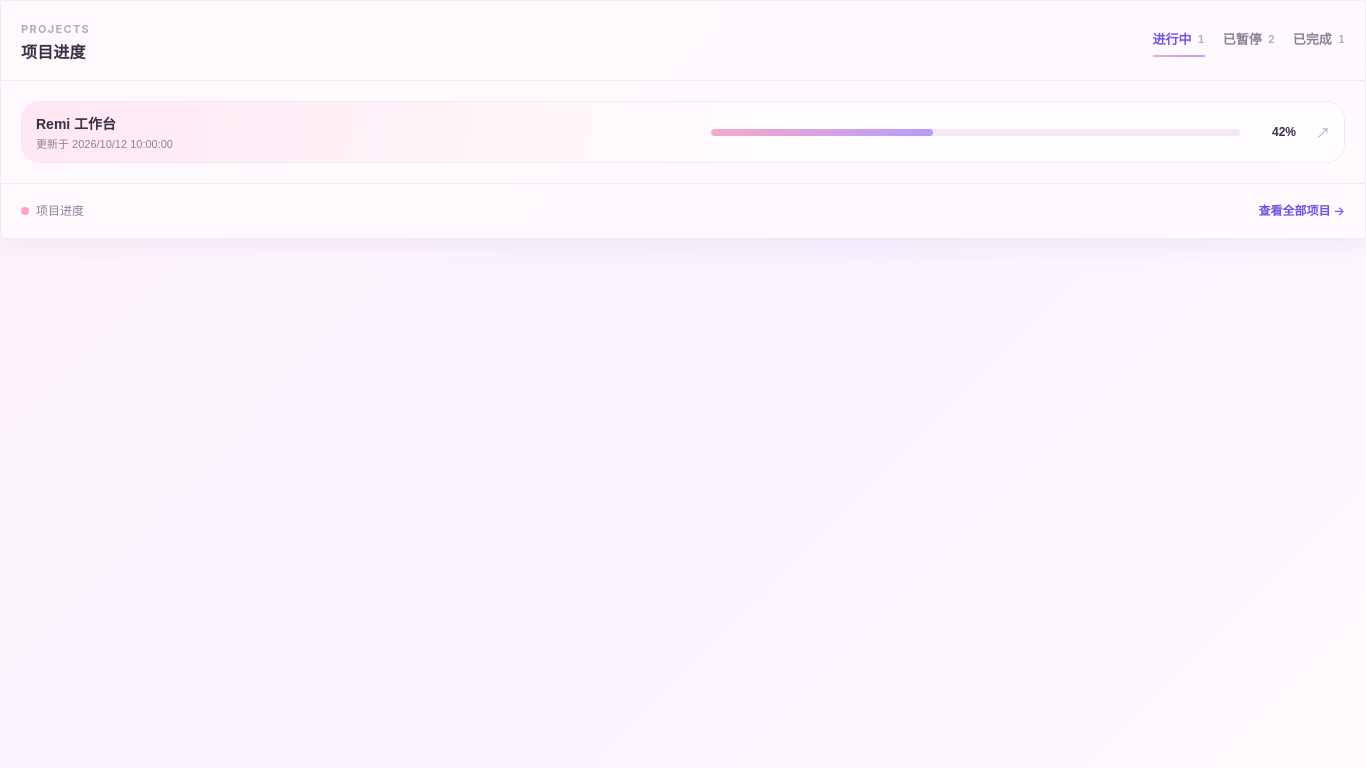
Scenario: ProjectOverviewCard › shows project progress with server counts and filters by status
The image size is (1366, 768).
Expected: the text "旧项目" is not shown
Click the button with class "tab" showing "已完成 1" at (1319, 41), box x1=1293 y1=22 x2=1345 y2=59
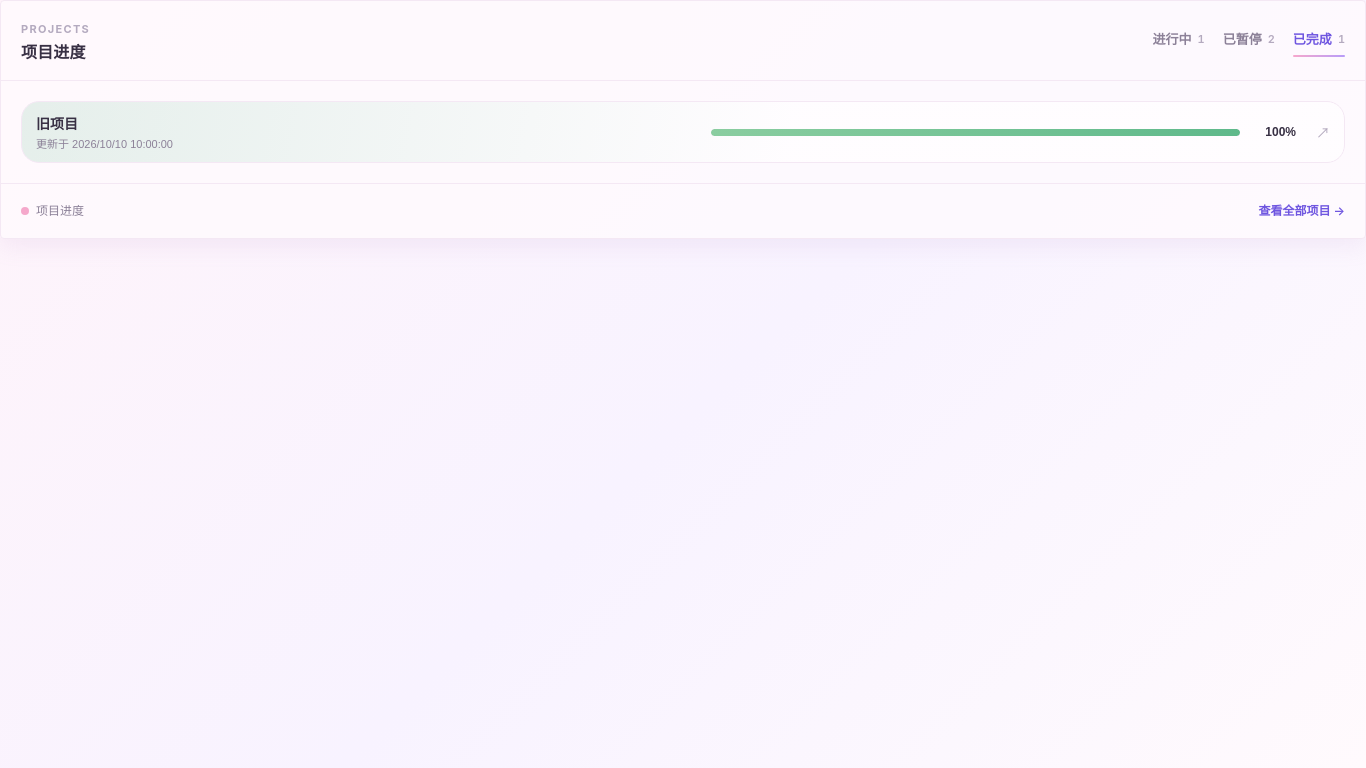
Expected: the text "旧项目" is shown, x1=36 y1=116 x2=78 y2=132
Expected: the text "100%" is shown, x1=1265 y1=125 x2=1296 y2=139
Expected: the text "Remi 工作台" is gone
